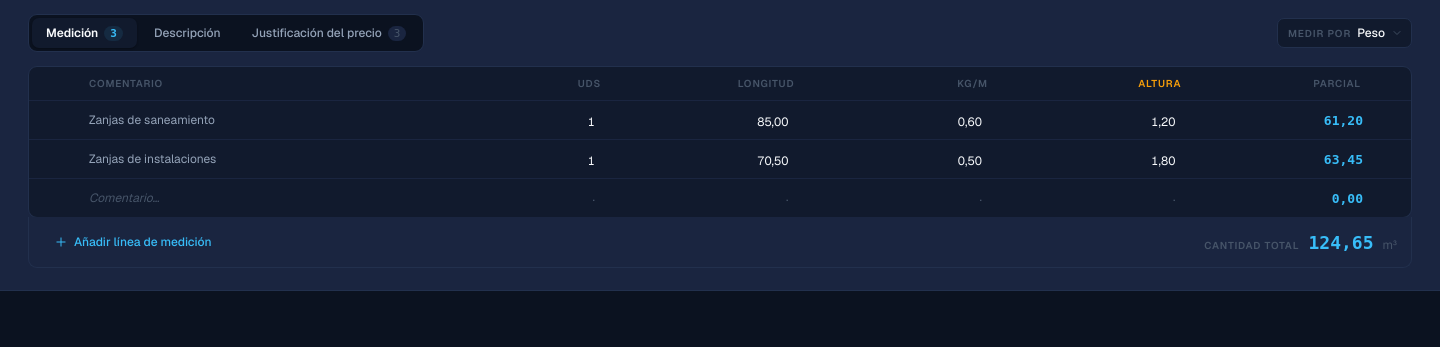
Test: forma de medir en la tabla de medición › en «Peso», escribir el perfil en el comentario rellena el kg/m
The image size is (1440, 347).
Click the field named "Comentario de la línea" at (124, 198), box [89, 190, 160, 206]
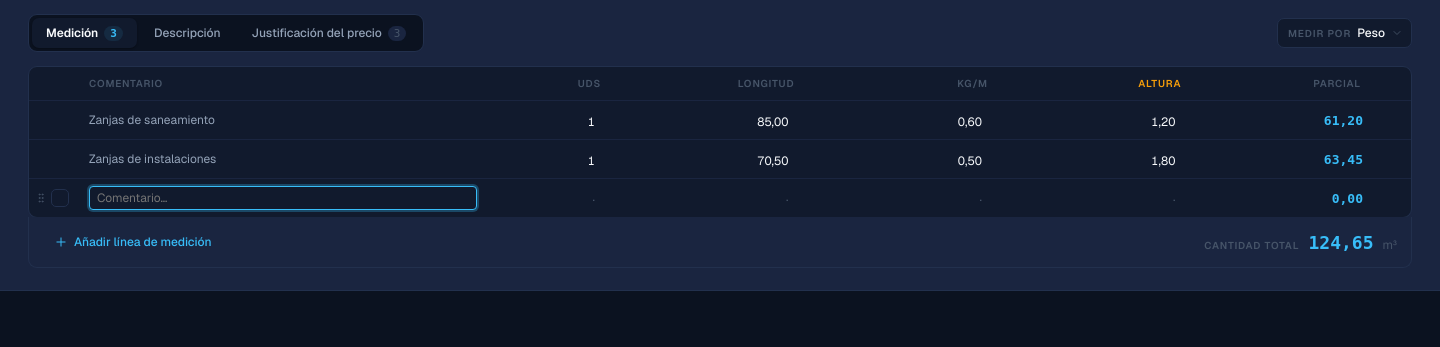
Type "IPE300" into the field named "Comentario de la línea" at (283, 198), box [89, 186, 477, 210]
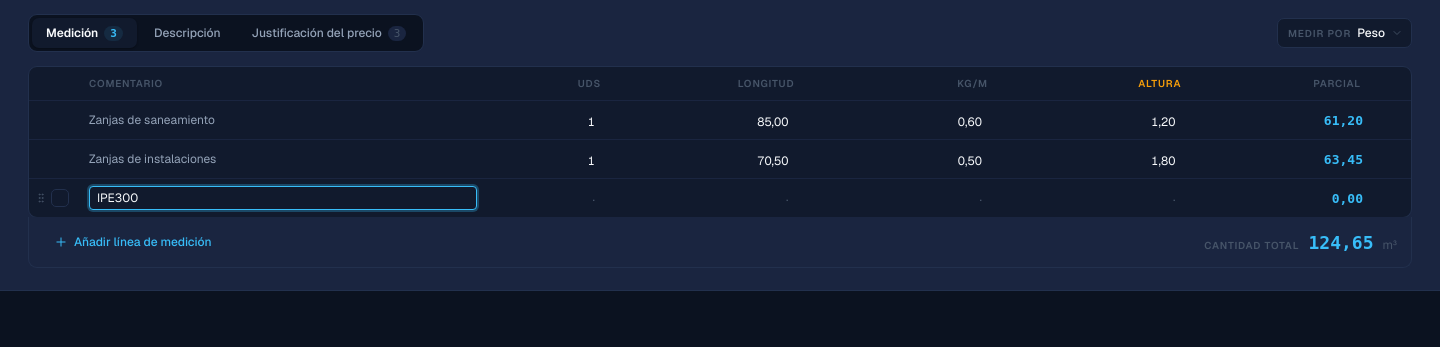
Press Enter in the field named "Comentario de la línea", box [89, 186, 477, 210]
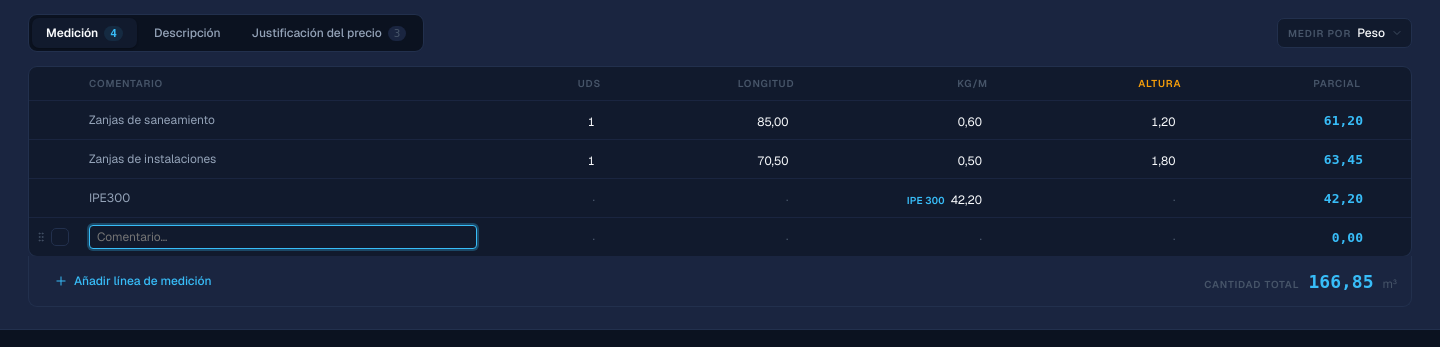
Now the button with aria-label "kg/m" reads "IPE 30042,20", box [814, 188, 988, 210]
